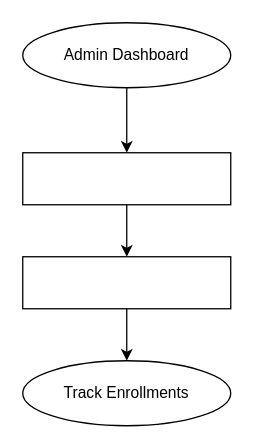
Image size: 253x448. Some labels were removed from this diagram. Each missing label, with the centre of its shape:
"Add/Edit Courses" goes at pixel 126 178.
"View Users" goes at pixel 126 282.
